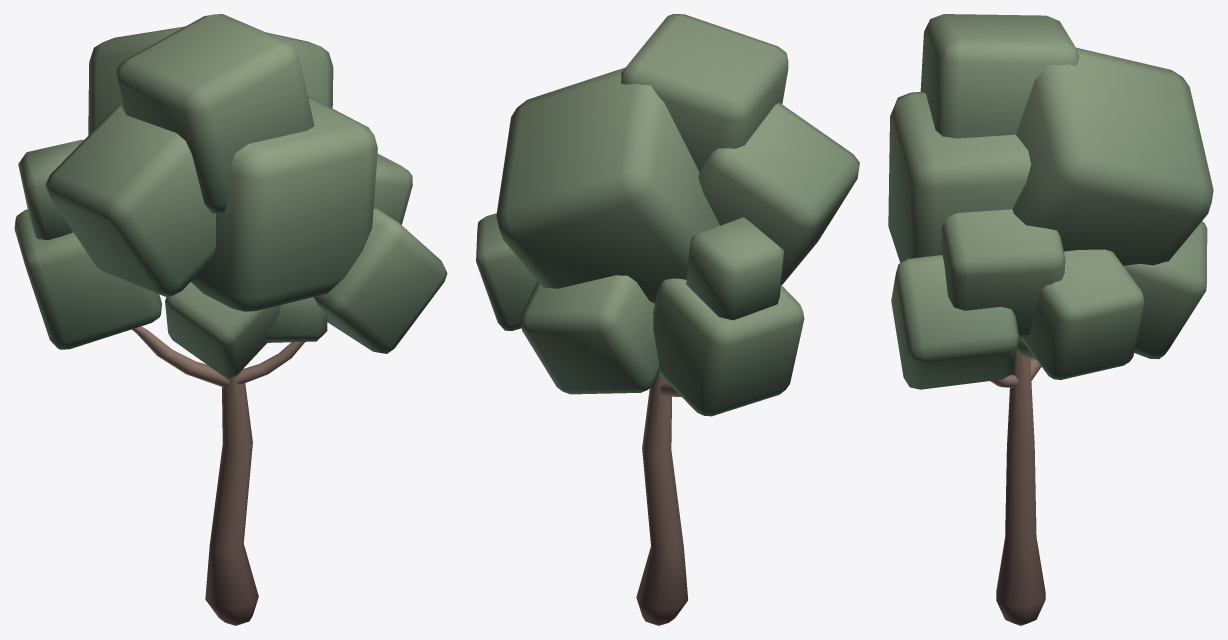
File: Tree_2_D.glb
The picture shows the model from 3 angles, left to right: view 1: azimuth 30°, elevation 25°; view 2: azimuth 150°, elevation 25°; view 3: azimuth 270°, elevation 25°; orthographic projection. The views are drawn at different scales.
Visible parts, largest first — view 1: Tree_2_D_Color1; view 2: Tree_2_D_Color1; view 3: Tree_2_D_Color1.
Boxes of the visible parts, x1,y1,x2,y2 form: Tree_2_D_Color1: [14, 14, 447, 625]; Tree_2_D_Color1: [476, 14, 859, 625]; Tree_2_D_Color1: [888, 14, 1213, 625].
Size of the model in its own units: 4.74 by 8.09 by 4.03.
Materials: 1 (1 with a texture image).
